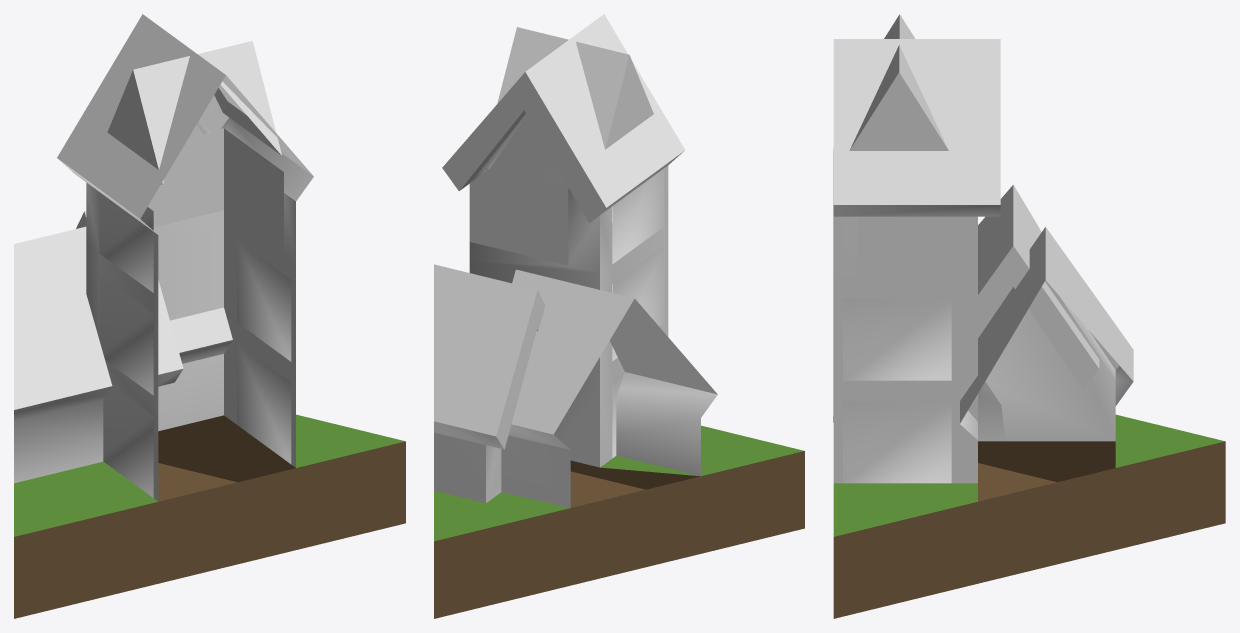
Rendered from Pis_Interseccio_PE_CE_CE.fbx.
3 views of the same model, side by side, from view 1: azimuth 30°, elevation 25°; view 2: azimuth 150°, elevation 25°; view 3: azimuth 270°, elevation 25° (orthographic). The views are drawn at different scales.
Visible parts, largest first — view 1: Pis_Interseccio_PE_CE_CE, DetallCantonada.009, DetallTeulada.042, DetallParet.080, DetallParet.081, DetallParet.099, DetallParet.098, DetallTeulada.043, DetallParet.100; view 2: Pis_Interseccio_PE_CE_CE, DetallCantonada.009, DetallTeulada.042, DetallParet.100, DetallAltell_1.007, DetallParet.099, DetallTeulada.043; view 3: Pis_Interseccio_PE_CE_CE, DetallParet.080, DetallParet.081, DetallCantonada.009, DetallTeulada.043.
Boxes of the visible parts, <box> form: Pis_Interseccio_PE_CE_CE: <box>14,14,405,618</box>; DetallCantonada.009: <box>148,128,283,253</box>; DetallTeulada.042: <box>107,56,189,184</box>; DetallParet.080: <box>237,343,291,464</box>; DetallParet.081: <box>237,240,291,361</box>; DetallParet.099: <box>99,274,153,395</box>; DetallParet.098: <box>103,386,153,497</box>; DetallTeulada.043: <box>198,41,281,155</box>; DetallParet.100: <box>99,192,153,292</box>; Pis_Interseccio_PE_CE_CE: <box>434,14,804,618</box>; DetallCantonada.009: <box>469,167,568,265</box>; DetallTeulada.042: <box>576,41,653,149</box>; DetallParet.100: <box>612,169,663,264</box>; DetallAltell_1.007: <box>490,115,568,188</box>; DetallParet.099: <box>612,246,663,361</box>; DetallTeulada.043: <box>497,27,568,103</box>; Pis_Interseccio_PE_CE_CE: <box>833,39,1225,618</box>; DetallParet.080: <box>843,401,951,483</box>; DetallParet.081: <box>843,298,951,380</box>; DetallCantonada.009: <box>857,216,977,278</box>; DetallTeulada.043: <box>849,45,948,150</box>.
Bounding box in the file's own units: 100 × 120 × 86.61.
